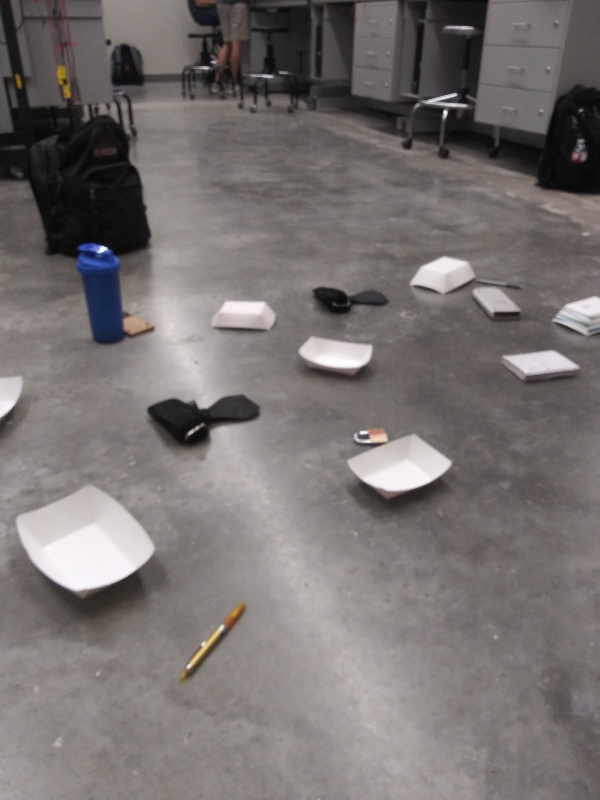plate: (14, 482, 159, 608), (343, 433, 458, 507), (295, 335, 377, 378), (406, 253, 479, 298), (207, 298, 280, 337), (548, 293, 600, 342), (1, 369, 28, 428)
